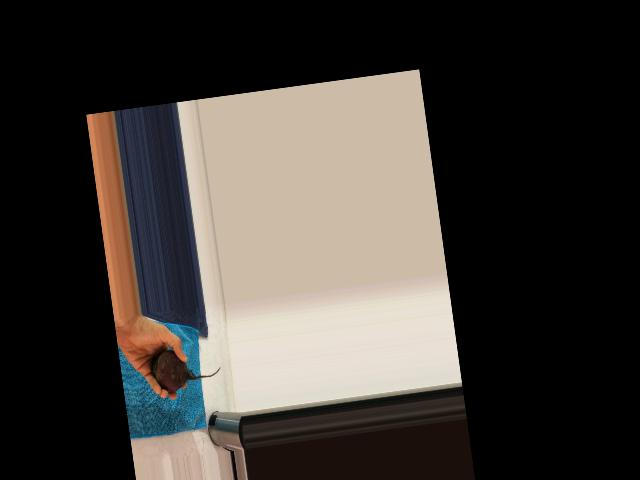beet: (147, 343, 222, 395)
